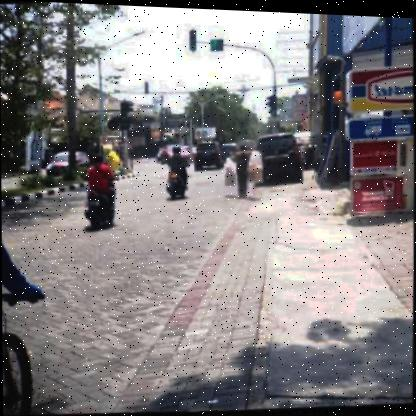Traffic Light -Green-: (267, 96, 278, 118), (189, 31, 196, 53), (120, 102, 126, 124)
